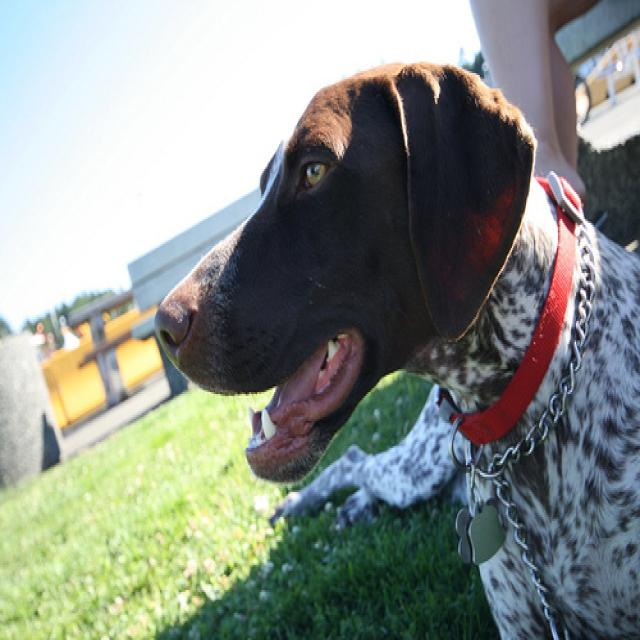dog-german_shorthaired: (147, 60, 637, 636)
